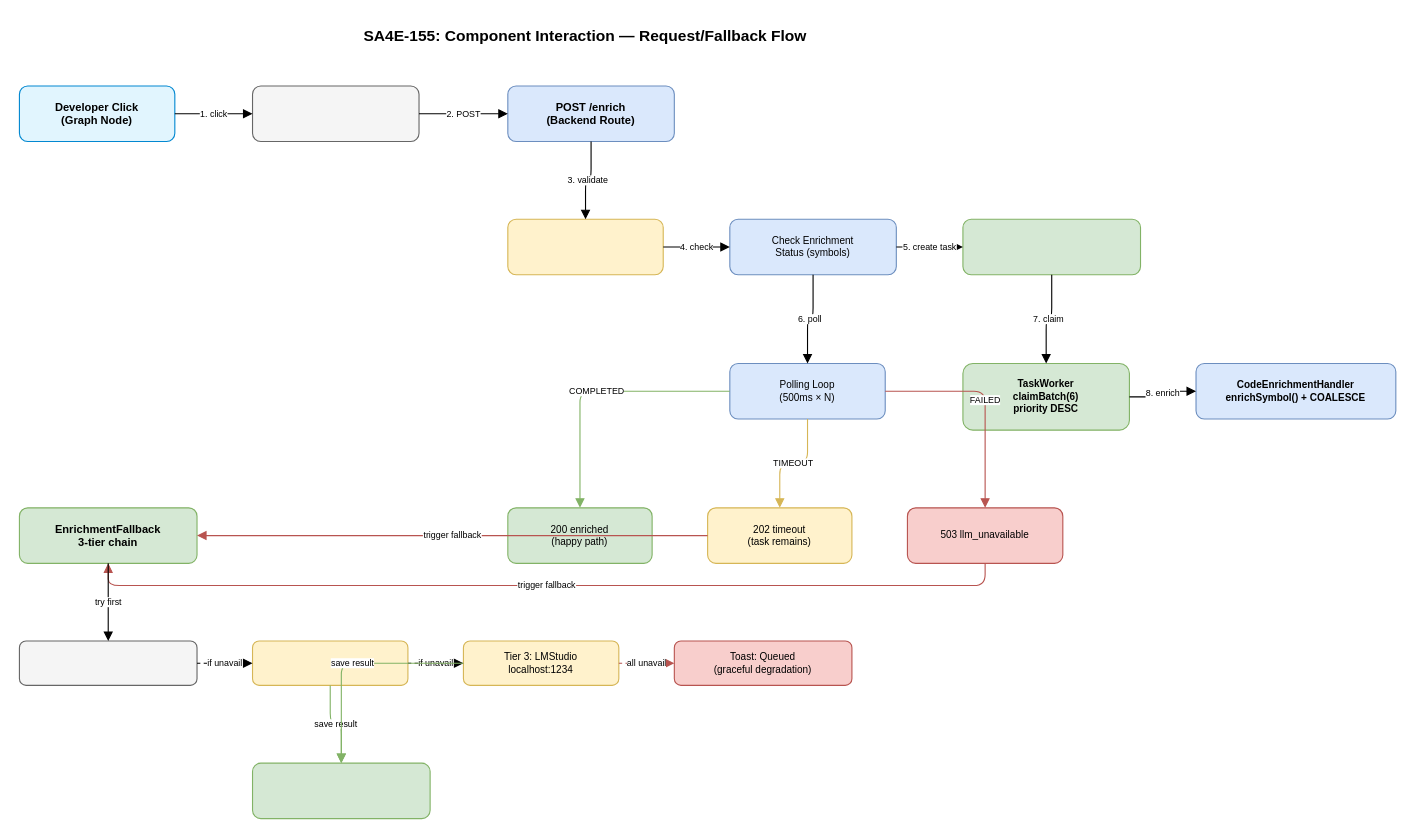
Some shapes in this 1415 by 838 pixel diagram are drawn without their labels. Here are the shapes that lost their labels. From the top down, the centre of each, then its label:
At pixel 335 113: "EnrichmentDedup canProcess(id)".
At pixel 585 246: "Validate ID (Zod Schema)".
At pixel 1051 246: "Create/Upgrade HIGH_PRIORITY Task".
At pixel 107 662: "Tier 1: kiroSdlc.llmChat".
At pixel 329 662: "Tier 2: Ollama localhost:11434".
At pixel 340 790: "POST /enrich-save (COALESCE write)".
